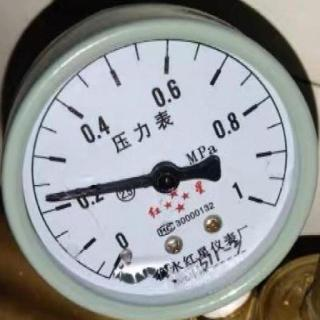gauge: (10, 25, 317, 317), (100, 234, 143, 282), (241, 183, 279, 219), (149, 160, 183, 196), (40, 188, 60, 204)
